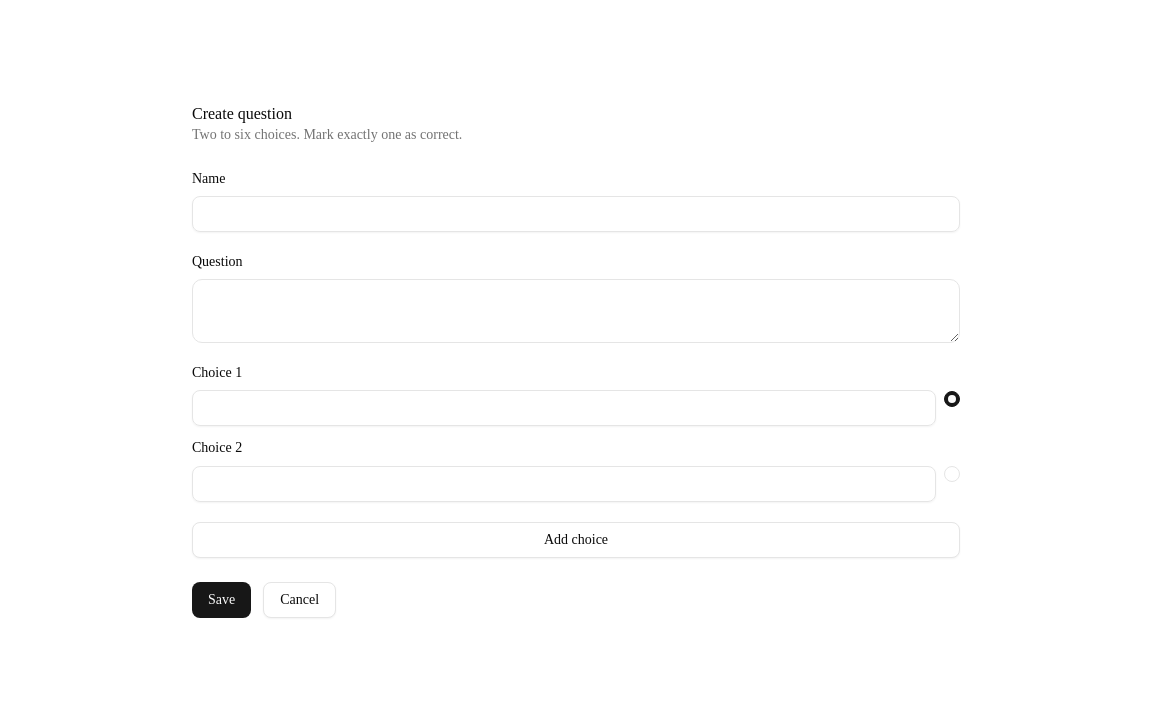
create question page › starts with two choice rows and can add rows up to six
Expected: the field labelled "Choice 1" is shown, x1=192 y1=390 x2=936 y2=426
Expected: the field labelled "Choice 2" is shown, x1=192 y1=466 x2=936 y2=502
Click the button "Add choice". click: (576, 540)
box: x1=192 y1=522 x2=960 y2=558
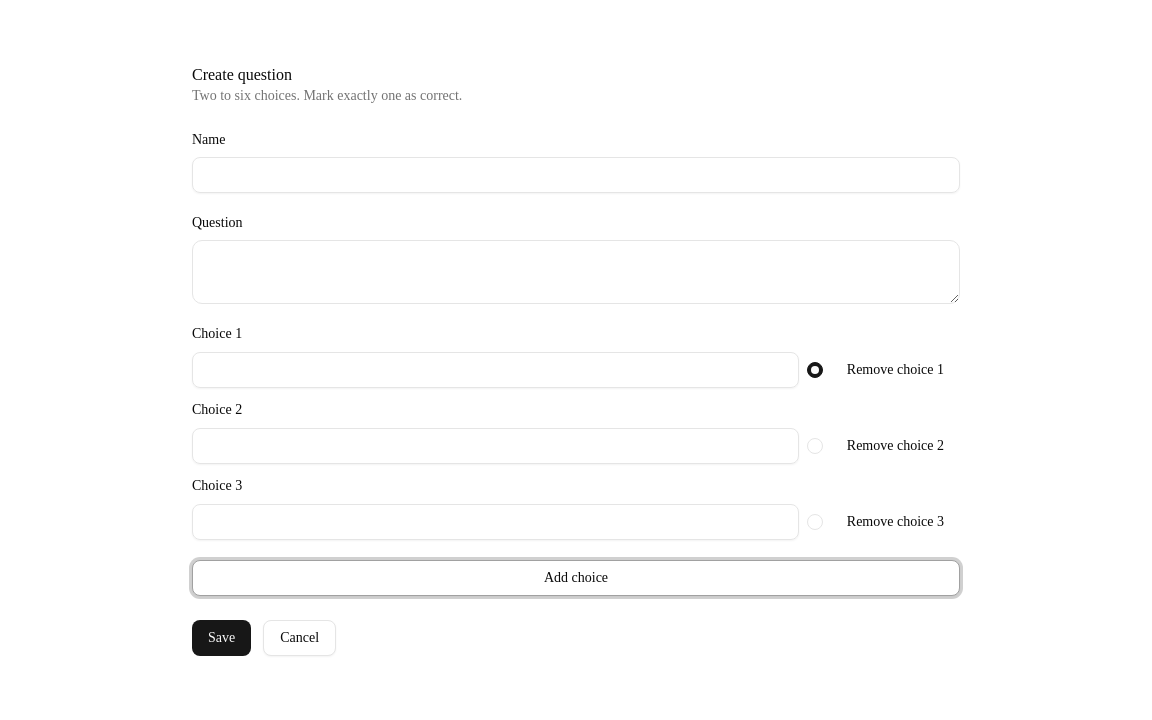
Expected: the field labelled "Choice 3" is shown, x1=192 y1=504 x2=799 y2=540
Click the button "Add choice". click: (576, 578)
box: x1=192 y1=560 x2=960 y2=596
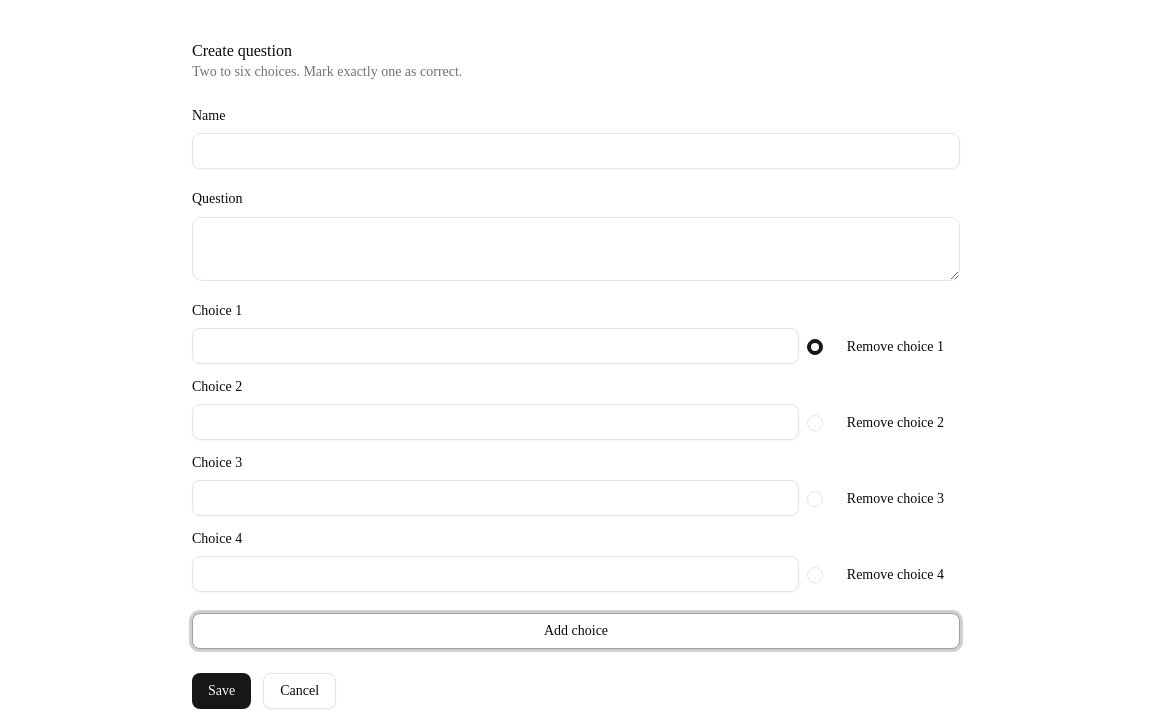
Click the button "Add choice". click: (576, 630)
box: x1=192 y1=612 x2=960 y2=648
(page scrolled)
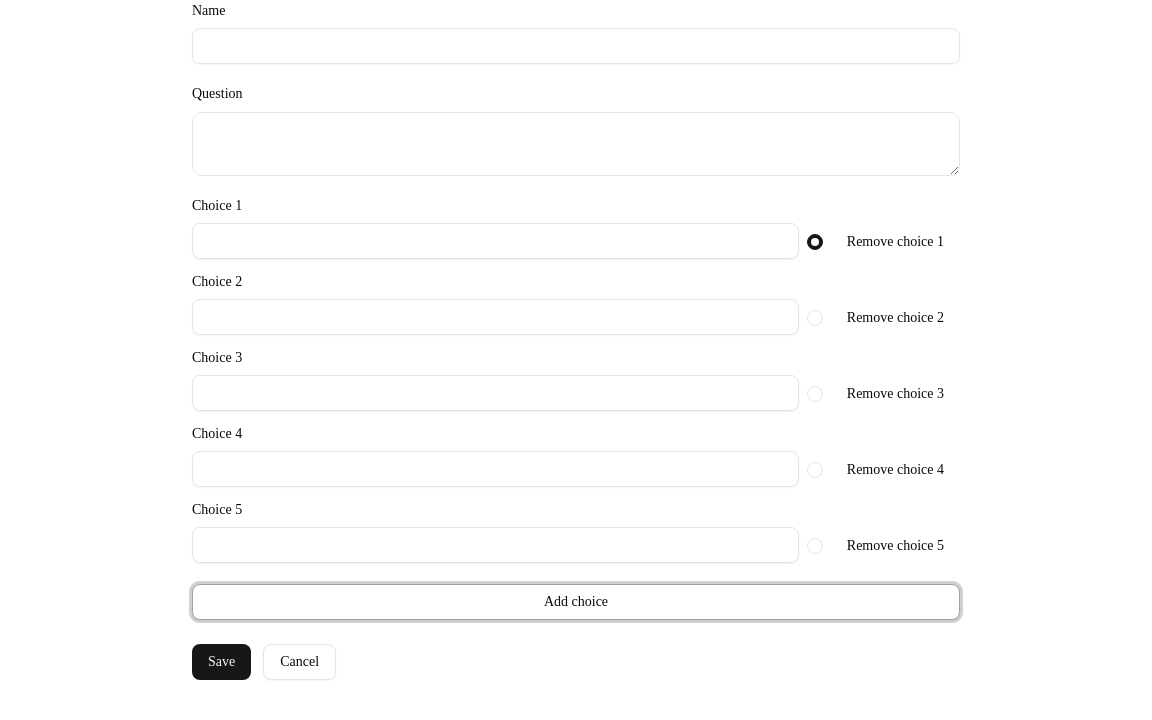
Click the button "Add choice". click: (576, 602)
box: x1=192 y1=584 x2=960 y2=620
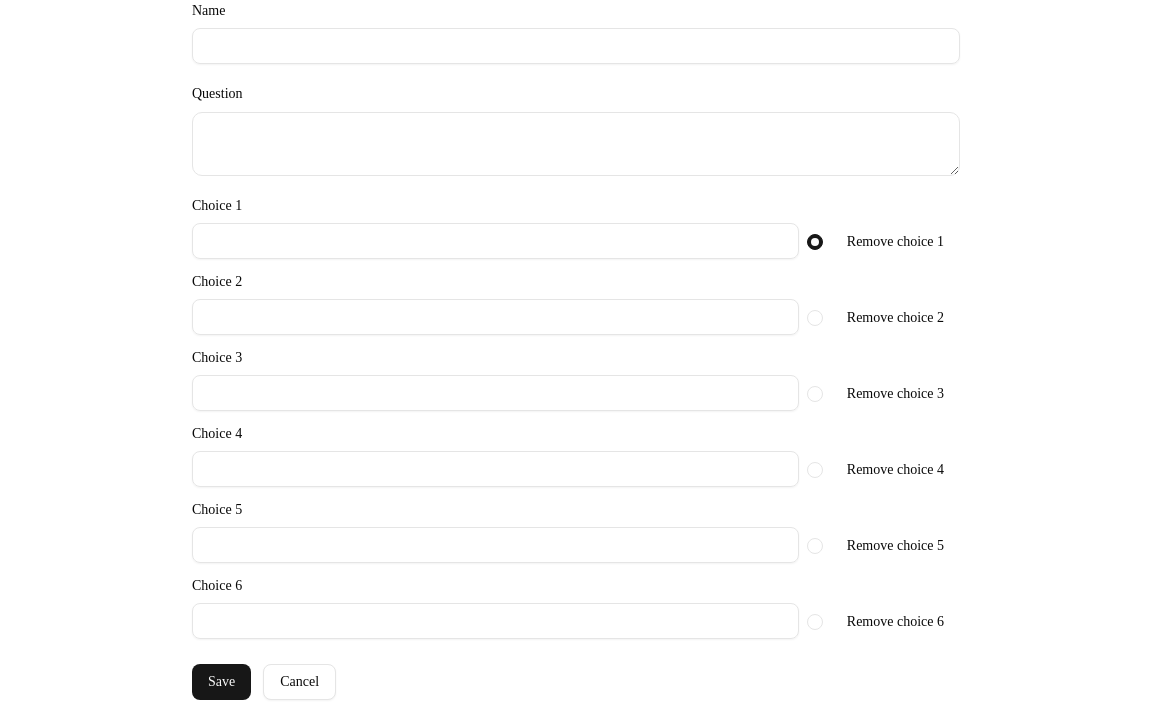
Expected: the field labelled "Choice 6" is shown, x1=192 y1=603 x2=799 y2=639
